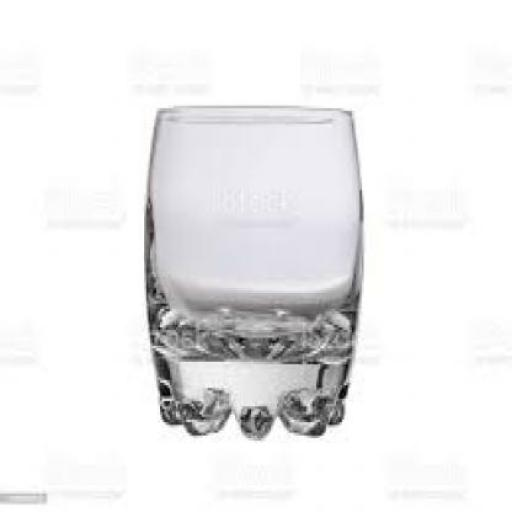glass: (142, 103, 363, 439)
